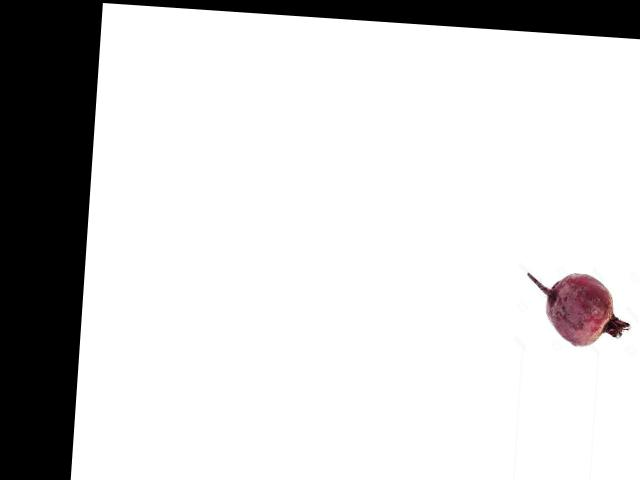beet: (523, 269, 634, 349)
